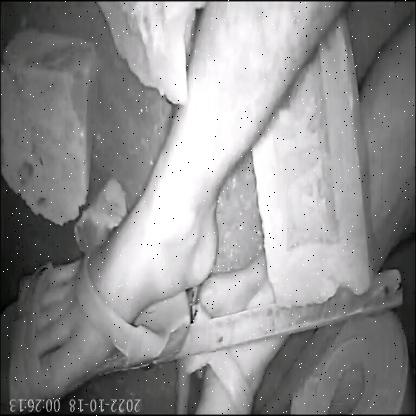leg: (0, 0, 337, 389)
